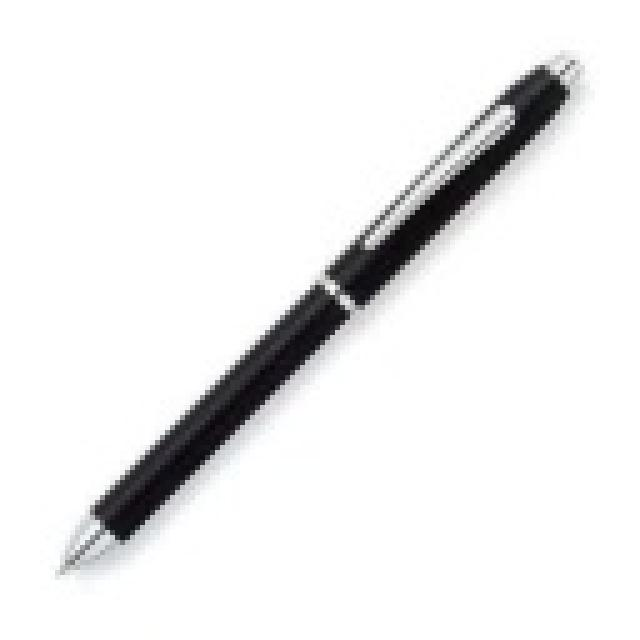pen: (47, 46, 593, 587)
